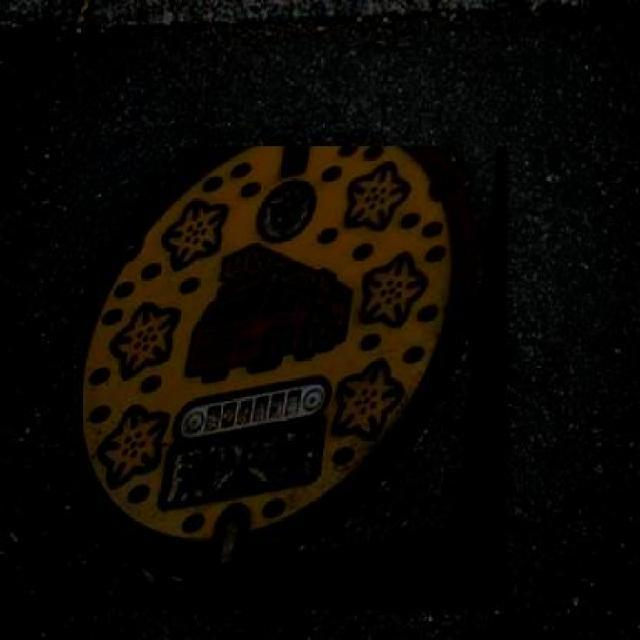Manhole: (84, 146, 508, 611)
